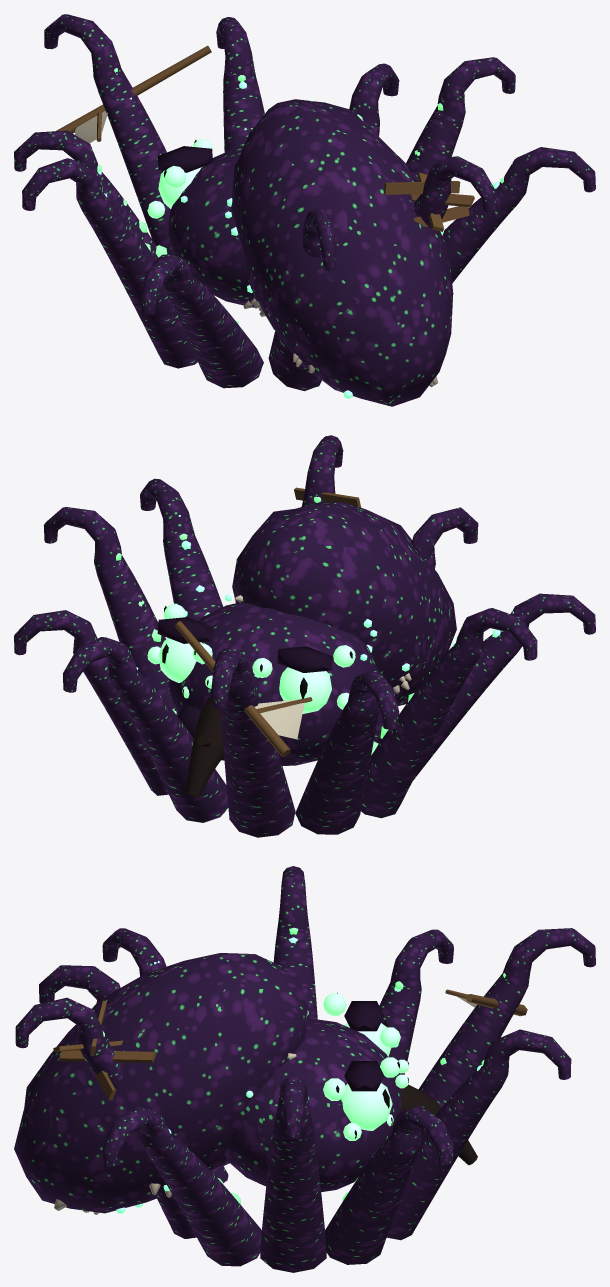
File: ship_eater.glb
The picture shows the model from 3 angles, top to bottom: view 1: azimuth 30°, elevation 25°; view 2: azimuth 150°, elevation 25°; view 3: azimuth 270°, elevation 25°; orthographic projection. The views are drawn at different scales.
Parts seen in each view (by area): view 1: Mantle, ShipEater, Tentacle2, Tentacle4, Tentacle5, Tentacle8, Tentacle9, Tentacle7, Tentacle1, Tentacle6, Tentacle3, Tentacle0; view 2: Mantle, ShipEater, Tentacle2, Tentacle4, Tentacle1, Tentacle3, Tentacle9, Tentacle8, Tentacle5, Tentacle0, Tentacle7, Tentacle6; view 3: Mantle, ShipEater, Tentacle9, Tentacle8, Tentacle0, Tentacle1, Tentacle2, Tentacle7, Tentacle3, Tentacle4, Tentacle6, Tentacle5.
Boxes of the visible parts, left/top/right/bottom form: Mantle: left=227, top=99, right=453, bottom=406; ShipEater: left=147, top=139, right=256, bottom=307; Tentacle2: left=44, top=14, right=211, bottom=255; Tentacle4: left=22, top=158, right=197, bottom=368; Tentacle5: left=140, top=254, right=263, bottom=388; Tentacle8: left=440, top=147, right=595, bottom=283; Tentacle9: left=406, top=57, right=515, bottom=181; Tentacle7: left=383, top=156, right=496, bottom=231; Tentacle1: left=216, top=17, right=264, bottom=152; Tentacle6: left=268, top=207, right=336, bottom=391; Tentacle3: left=14, top=130, right=167, bottom=259; Tentacle0: left=349, top=63, right=399, bottom=136; Mantle: left=232, top=501, right=456, bottom=705; ShipEater: left=147, top=594, right=377, bottom=797; Tentacle2: left=175, top=621, right=312, bottom=837; Tentacle4: left=361, top=608, right=537, bottom=818; Tentacle1: left=63, top=637, right=228, bottom=822; Tentacle3: left=295, top=670, right=399, bottom=834; Tentacle9: left=43, top=507, right=178, bottom=715; Tentacle8: left=140, top=478, right=223, bottom=621; Tentacle5: left=376, top=593, right=595, bottom=780; Tentacle0: left=14, top=610, right=168, bottom=795; Tentacle7: left=294, top=435, right=361, bottom=507; Tentacle6: left=374, top=507, right=478, bottom=741; Mantle: left=14, top=953, right=308, bottom=1214; ShipEater: left=225, top=992, right=477, bottom=1191; Tentacle9: left=260, top=1076, right=326, bottom=1272; Tentacle8: left=102, top=1107, right=261, bottom=1266; Tentacle0: left=325, top=1106, right=453, bottom=1264; Tentacle1: left=386, top=1029, right=571, bottom=1240; Tentacle2: left=418, top=928, right=595, bottom=1107; Tentacle7: left=15, top=997, right=196, bottom=1238; Tentacle3: left=379, top=929, right=453, bottom=1074; Tentacle4: left=273, top=866, right=317, bottom=1019; Tentacle6: left=39, top=965, right=228, bottom=1182; Tentacle5: left=102, top=928, right=229, bottom=1165.
Bounding box in the file's own units: 4.92 × 2.46 × 4.92.
Materials: 10 (1 with a texture image).
